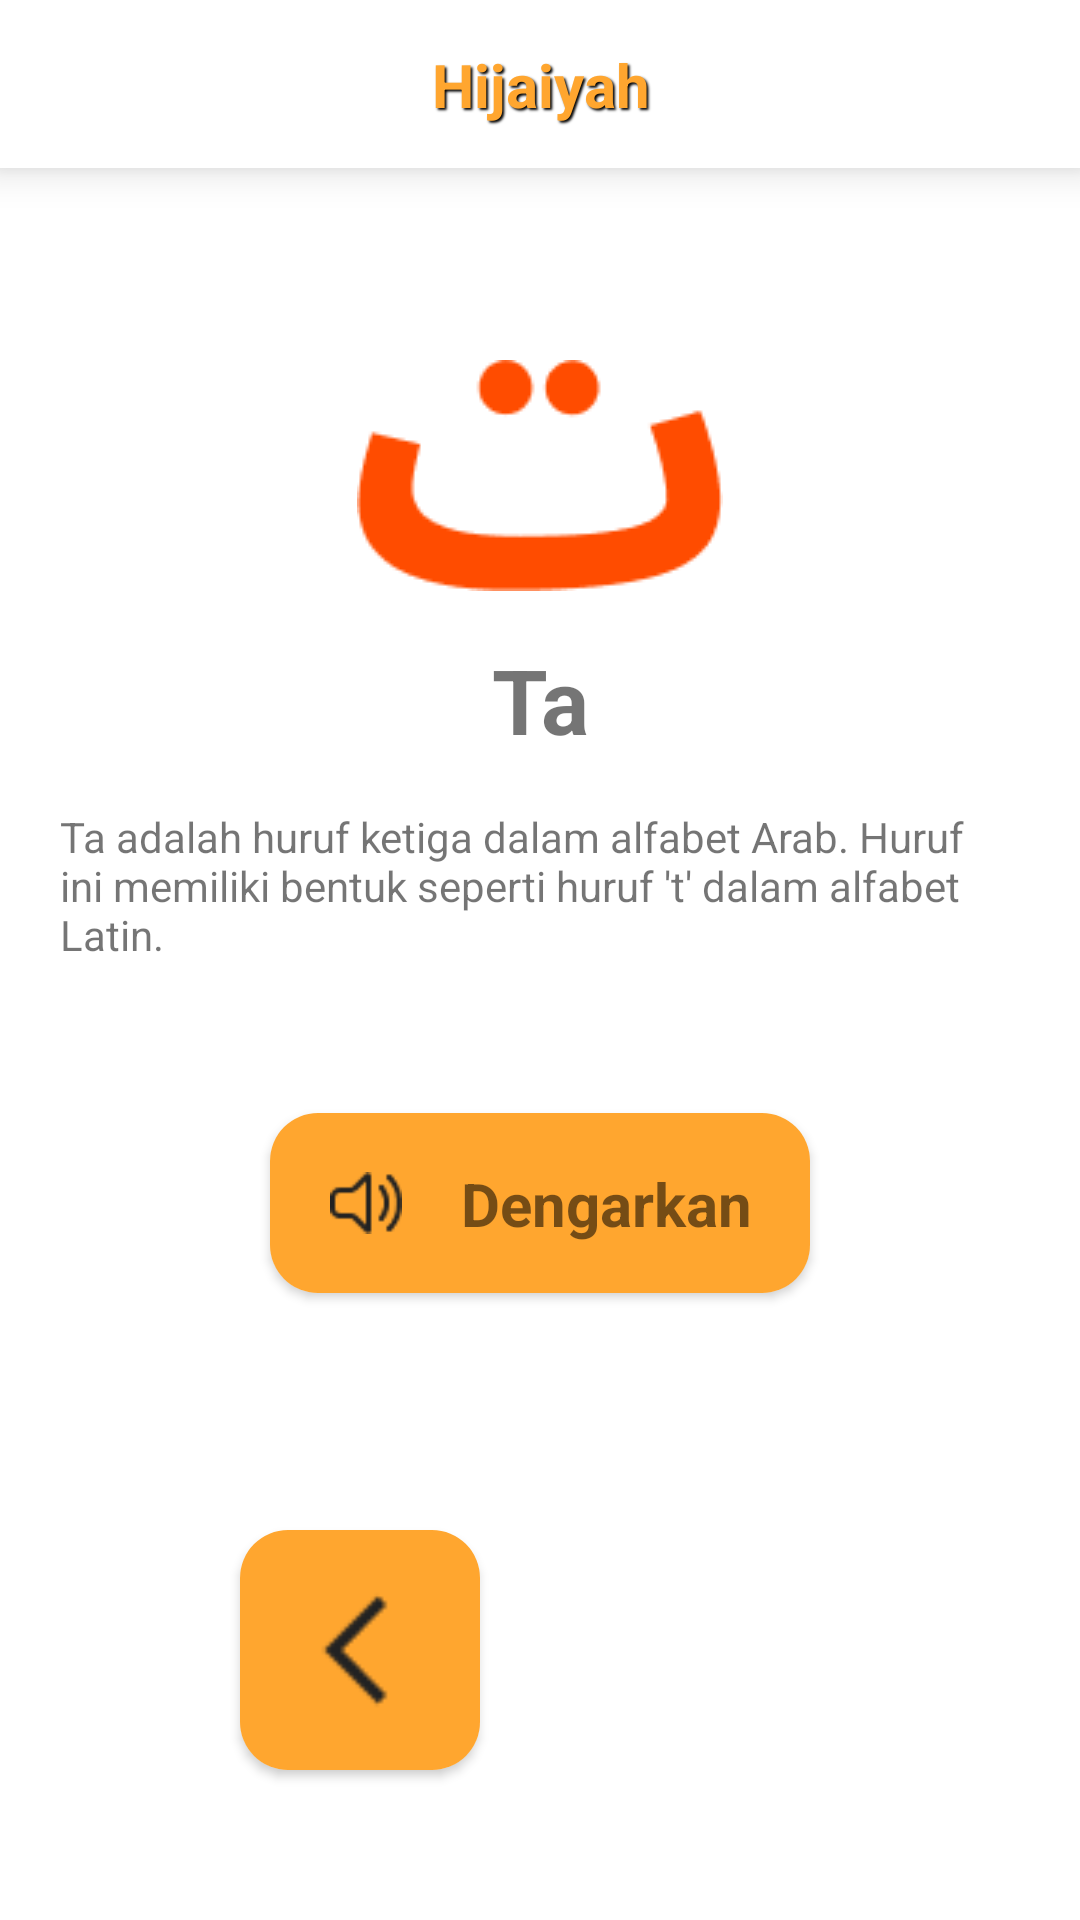

Point at icon controls on the screen. Image size 1080 × 1920, points as [x,y].
sebelum: [355,1650]
